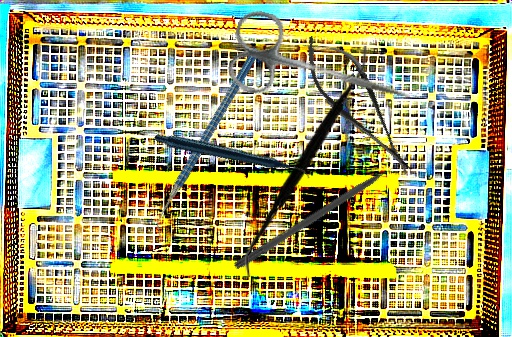Chopper: (105, 46, 311, 242)
Handpiece: (153, 77, 311, 238)
Iris Scissors: (221, 6, 422, 133)
Micro Scissor: (289, 21, 428, 189)
Pusher: (232, 154, 412, 273)
Spatula Surgical: (236, 46, 378, 277)
